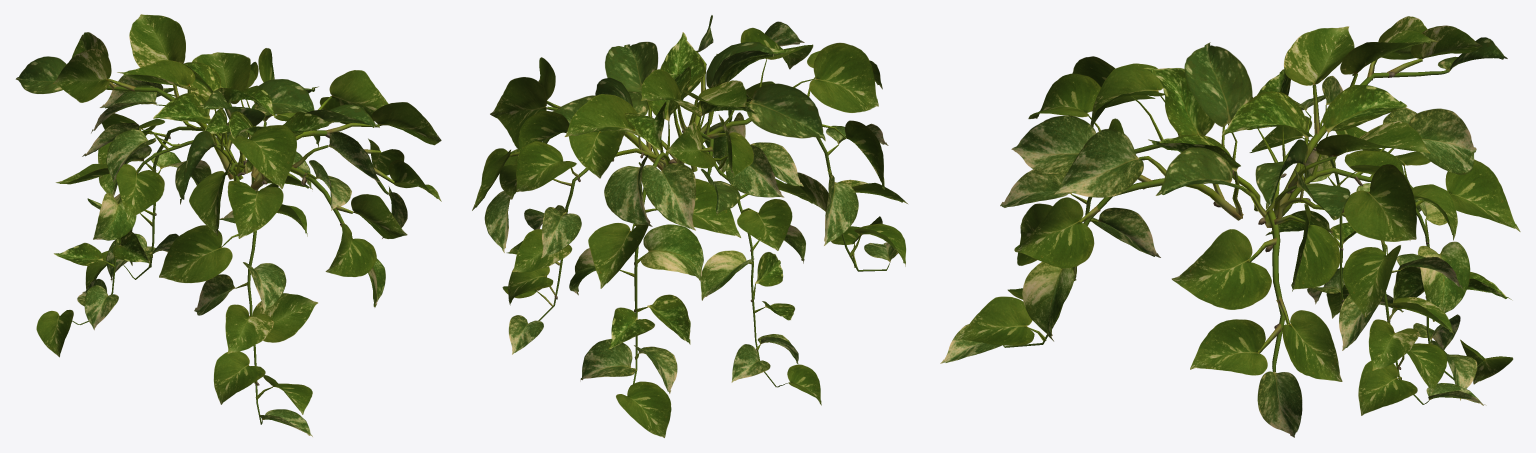
The model's file is leefs.glb.
3 renders of one model, left to right at view 1: azimuth 30°, elevation 25°; view 2: azimuth 150°, elevation 25°; view 3: azimuth 270°, elevation 25°, orthographic. The views are drawn at different scales.
Visible parts, largest first — view 1: POTHOS; view 2: POTHOS; view 3: POTHOS.
Boxes of the visible parts, <box> form: POTHOS: <box>15,14,441,436</box>; POTHOS: <box>472,15,907,437</box>; POTHOS: <box>940,16,1520,437</box>.
Size of the model in its own units: 0.8265 by 0.6909 by 0.9741.
Materials: 1 (1 with a texture image).
